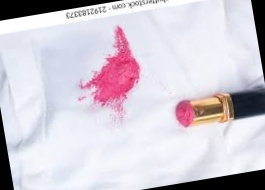lipstick: (78, 26, 148, 113)
